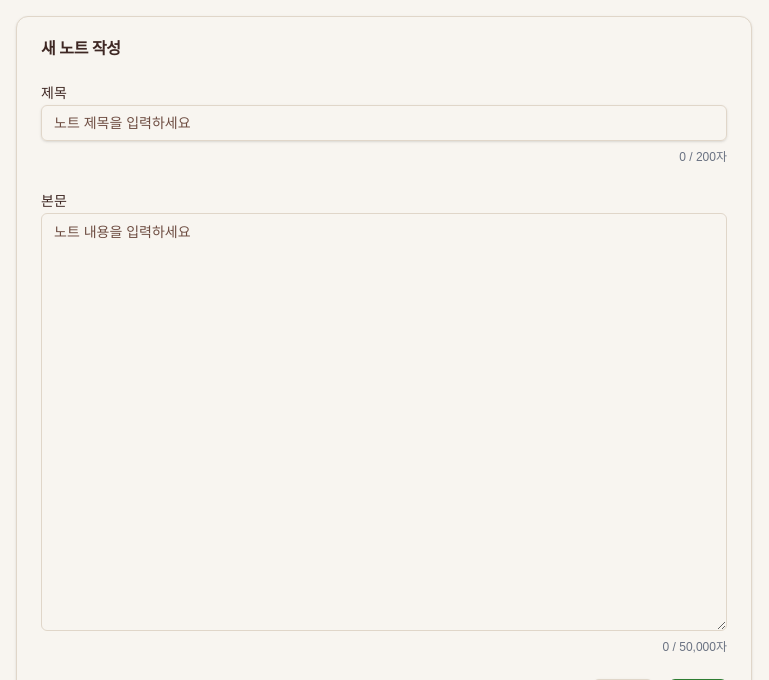
it: NewNoteForm › 본문 글자 수 카운터가 작동한다
Expected: the text "0 / 50,000자" is shown, left=662, top=640, right=727, bottom=654
Type "테스트 본문 내용입니다." into the text box labelled "본문" at (384, 422), box left=41, top=213, right=727, bottom=631
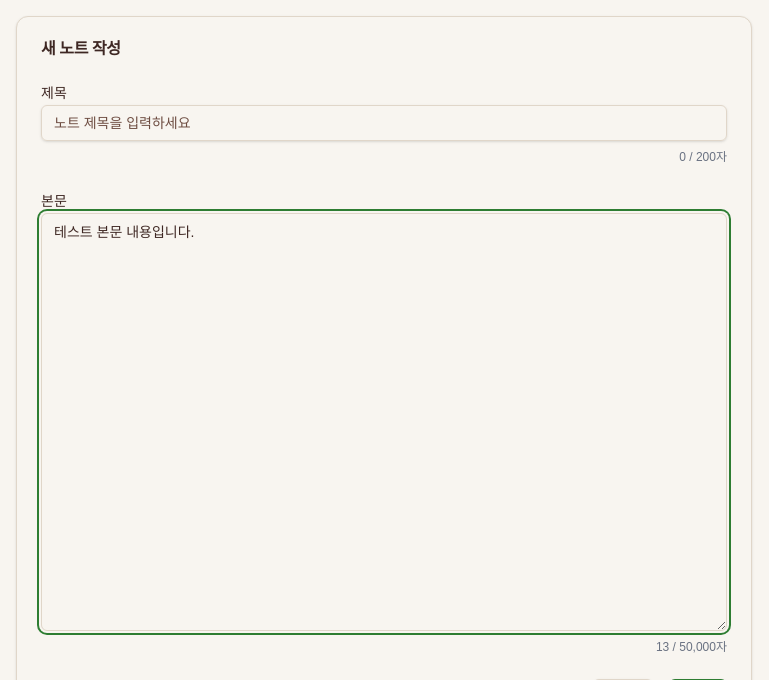
Expected: the text "13 / 50,000자" is shown, left=656, top=640, right=727, bottom=654
